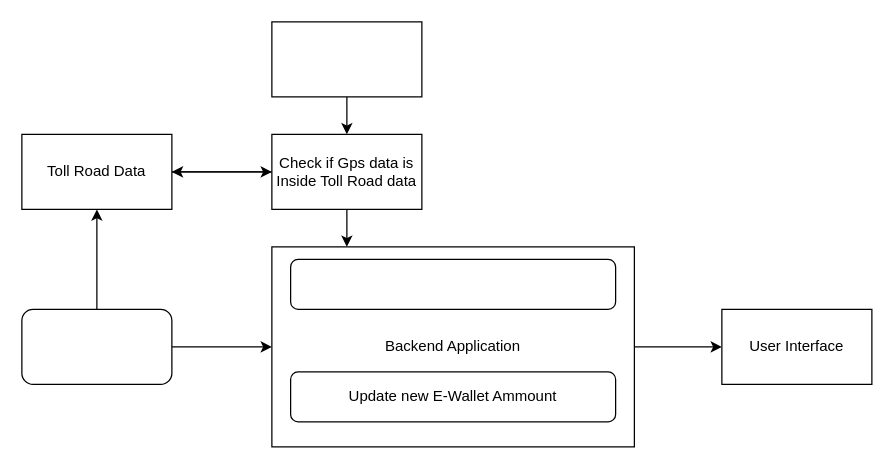
Some shapes in this 894 by 469 pixel diagram are drawn without their labels. The shapes that lost their labels are listed below. From the top down, each one's centre as x and y in pixels, then its label:
At point (346, 59): "Get data from GPS Module".
At point (452, 283): "Calculate Distance and Ammount".
At point (96, 346): "Database".
